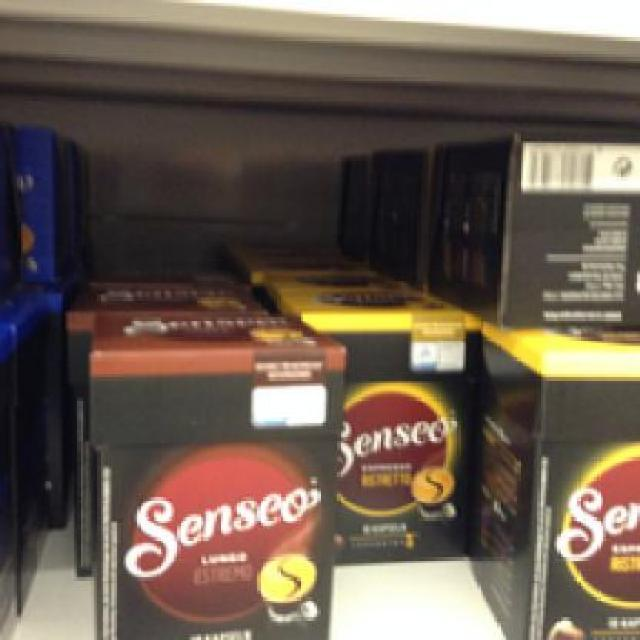Coffee: (86, 305, 346, 638), (280, 280, 480, 563), (468, 314, 634, 637)
